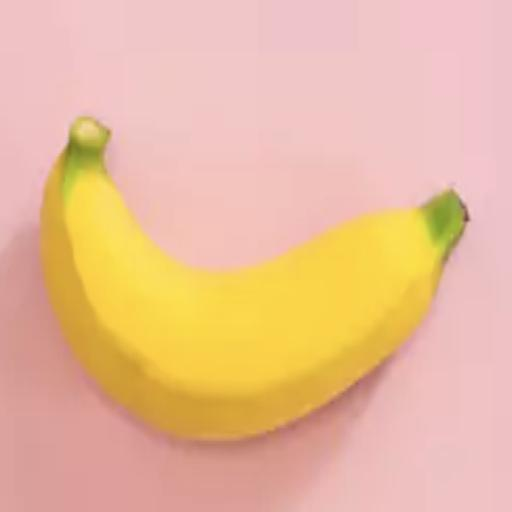banana: (41, 118, 467, 439)
